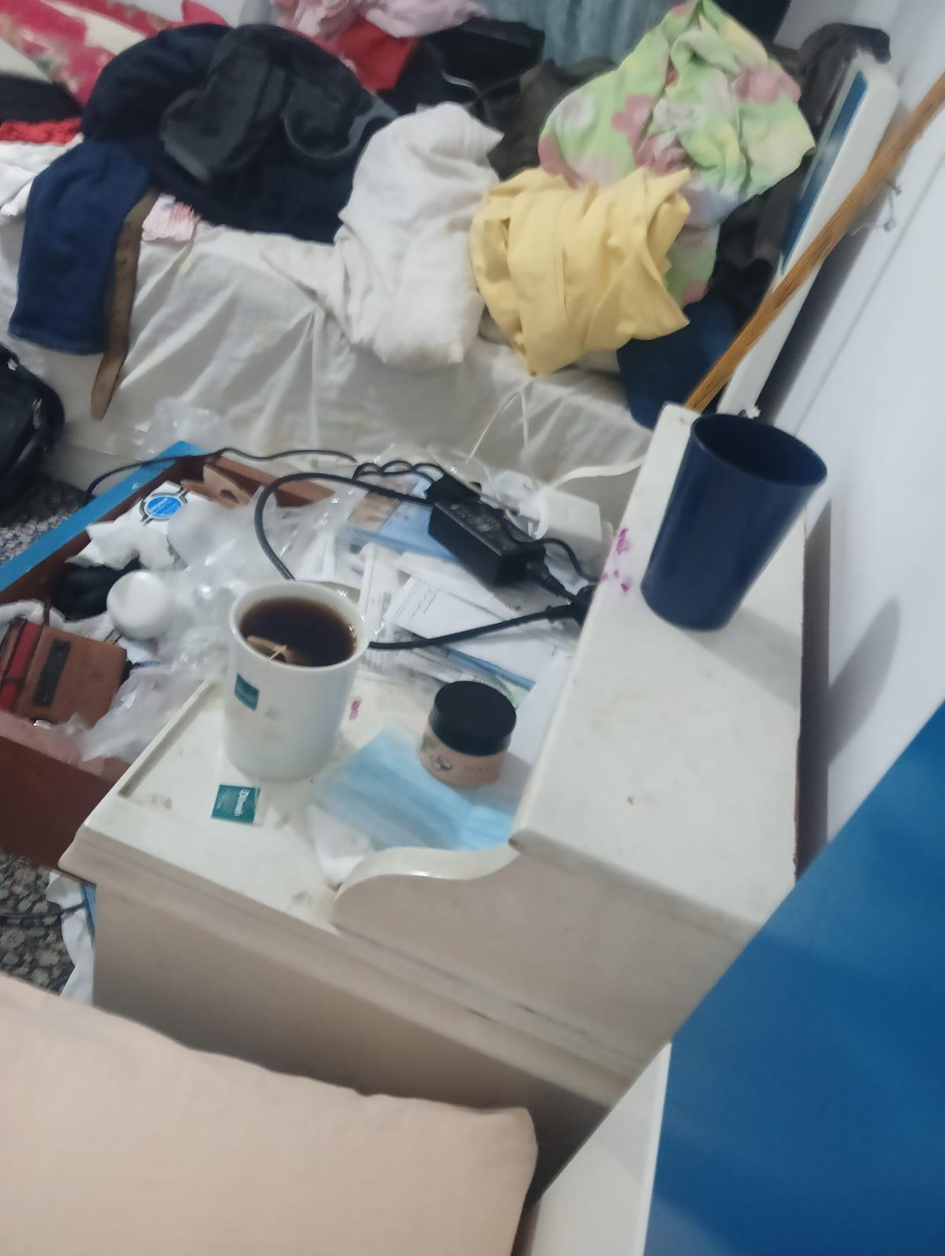cup: (640, 414, 826, 631), (224, 581, 367, 781), (229, 580, 369, 676), (692, 412, 830, 498), (237, 596, 370, 670), (429, 681, 516, 755)
